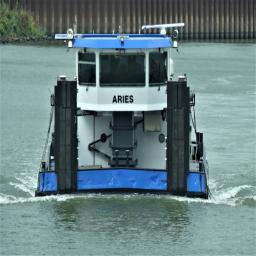tugboat: (35, 19, 214, 209)
